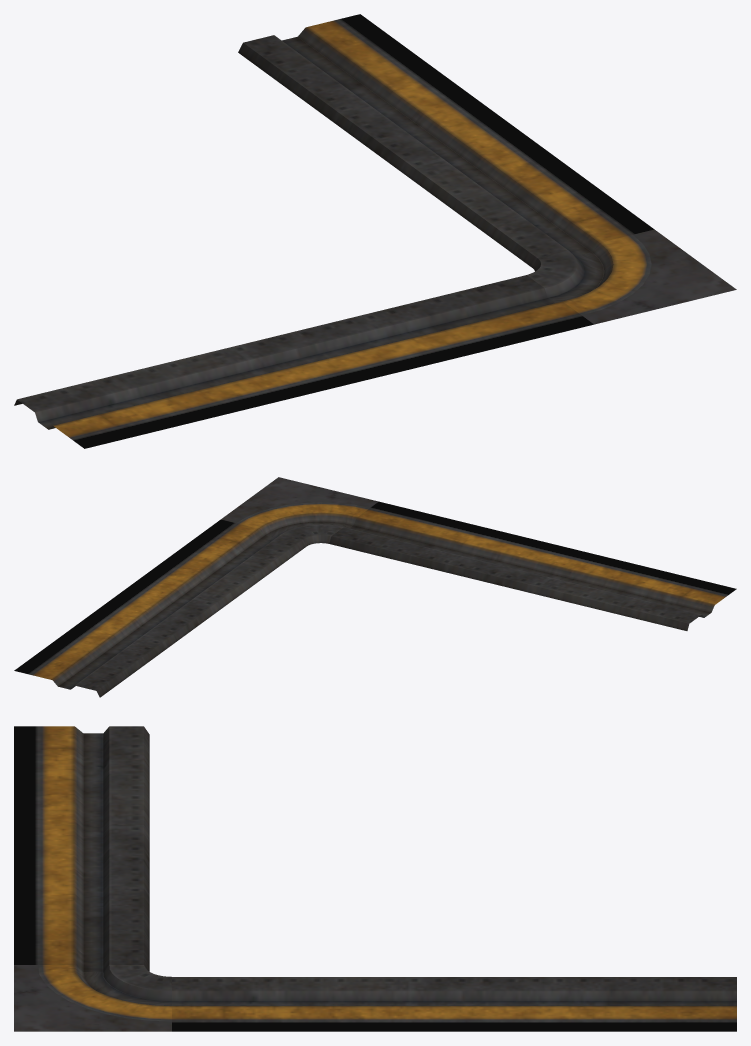
Rendered from lab_floor_welder_concave_short.dae.
The picture shows the model from 3 angles, top to bottom: view 1: azimuth 30°, elevation 25°; view 2: azimuth 150°, elevation 25°; view 3: azimuth 270°, elevation 25°; orthographic projection. The views are drawn at different scales.
Visible parts, largest first — view 1: floor_welder_concave_short; view 2: floor_welder_concave_short; view 3: floor_welder_concave_short.
Part boxes in pixels (x1,y1,x2,y2): floor_welder_concave_short: [14, 14, 736, 448]; floor_welder_concave_short: [14, 477, 736, 697]; floor_welder_concave_short: [14, 726, 736, 1031].
Size of the model in its own units: 2 by 0.0254 by 2.
